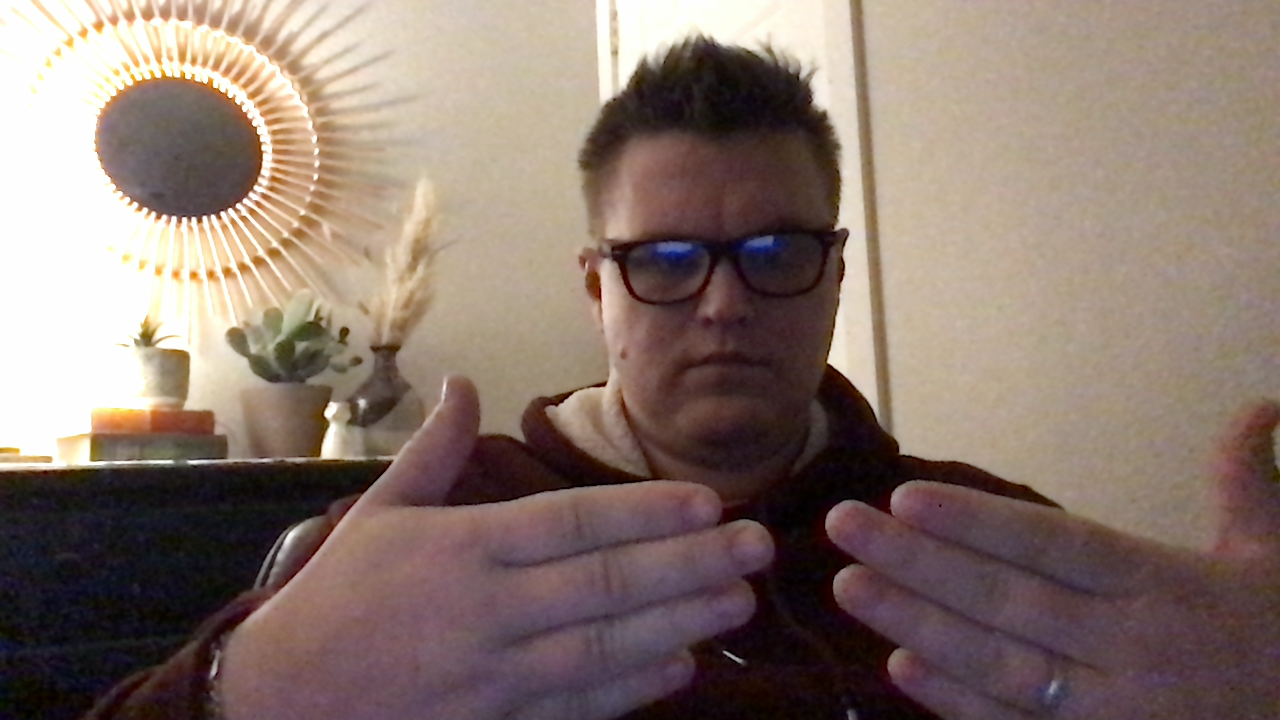thankyou: (209, 377, 1280, 720)
